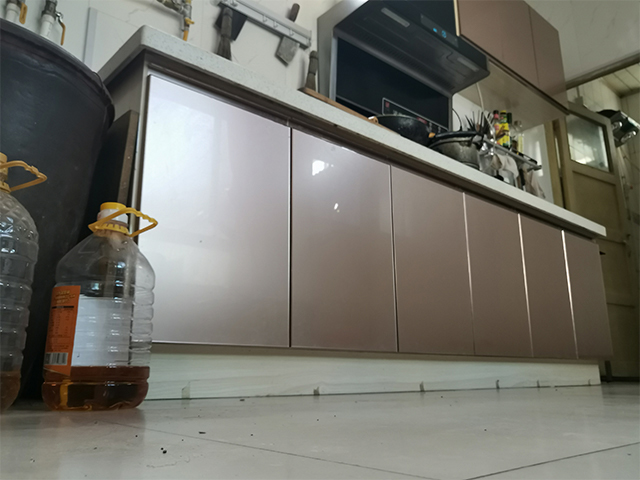cabinet: (96, 24, 619, 403)
